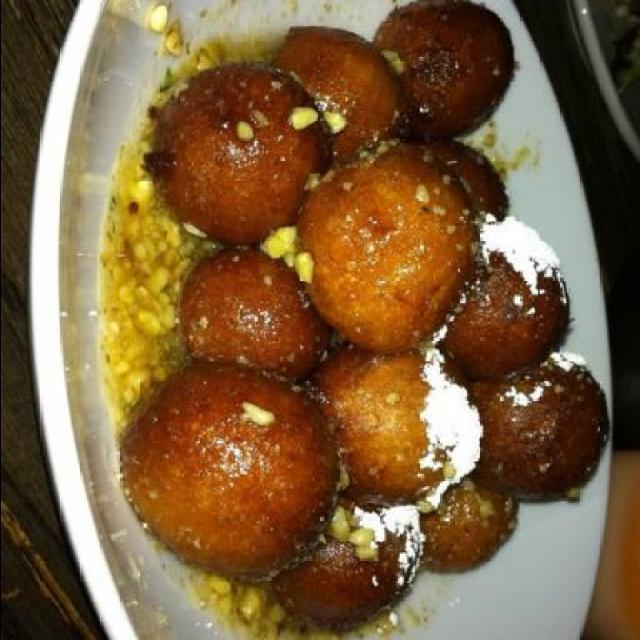Donuts: (44, 5, 582, 628)
